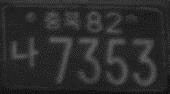2: (105, 11, 123, 35)
3: (131, 36, 157, 86), (77, 37, 102, 85)
5: (104, 37, 130, 86)
7: (46, 35, 74, 85)
8: (85, 9, 103, 33)
나: (10, 35, 39, 69)
충북_O: (43, 9, 81, 32)
